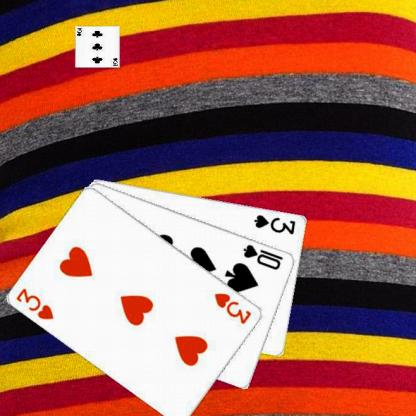10S: (241, 242, 284, 271)
3H: (13, 285, 56, 321), (212, 290, 253, 326)
3S: (252, 212, 297, 235)
